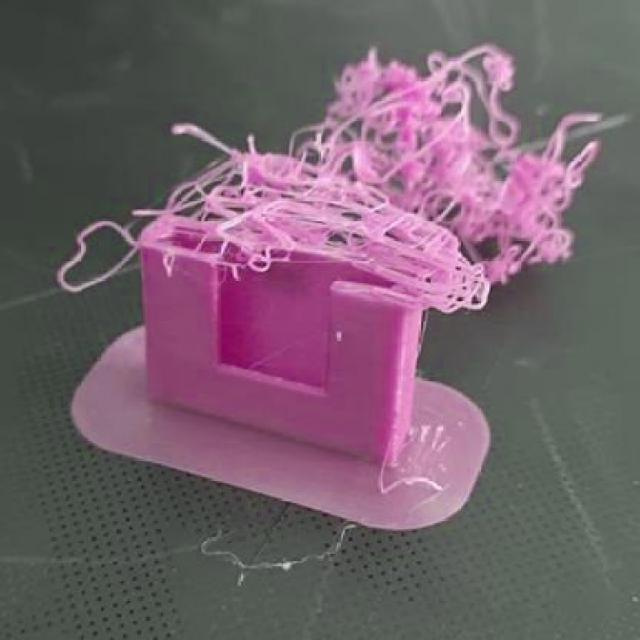spaghetti: (290, 40, 636, 317), (56, 116, 292, 302)
